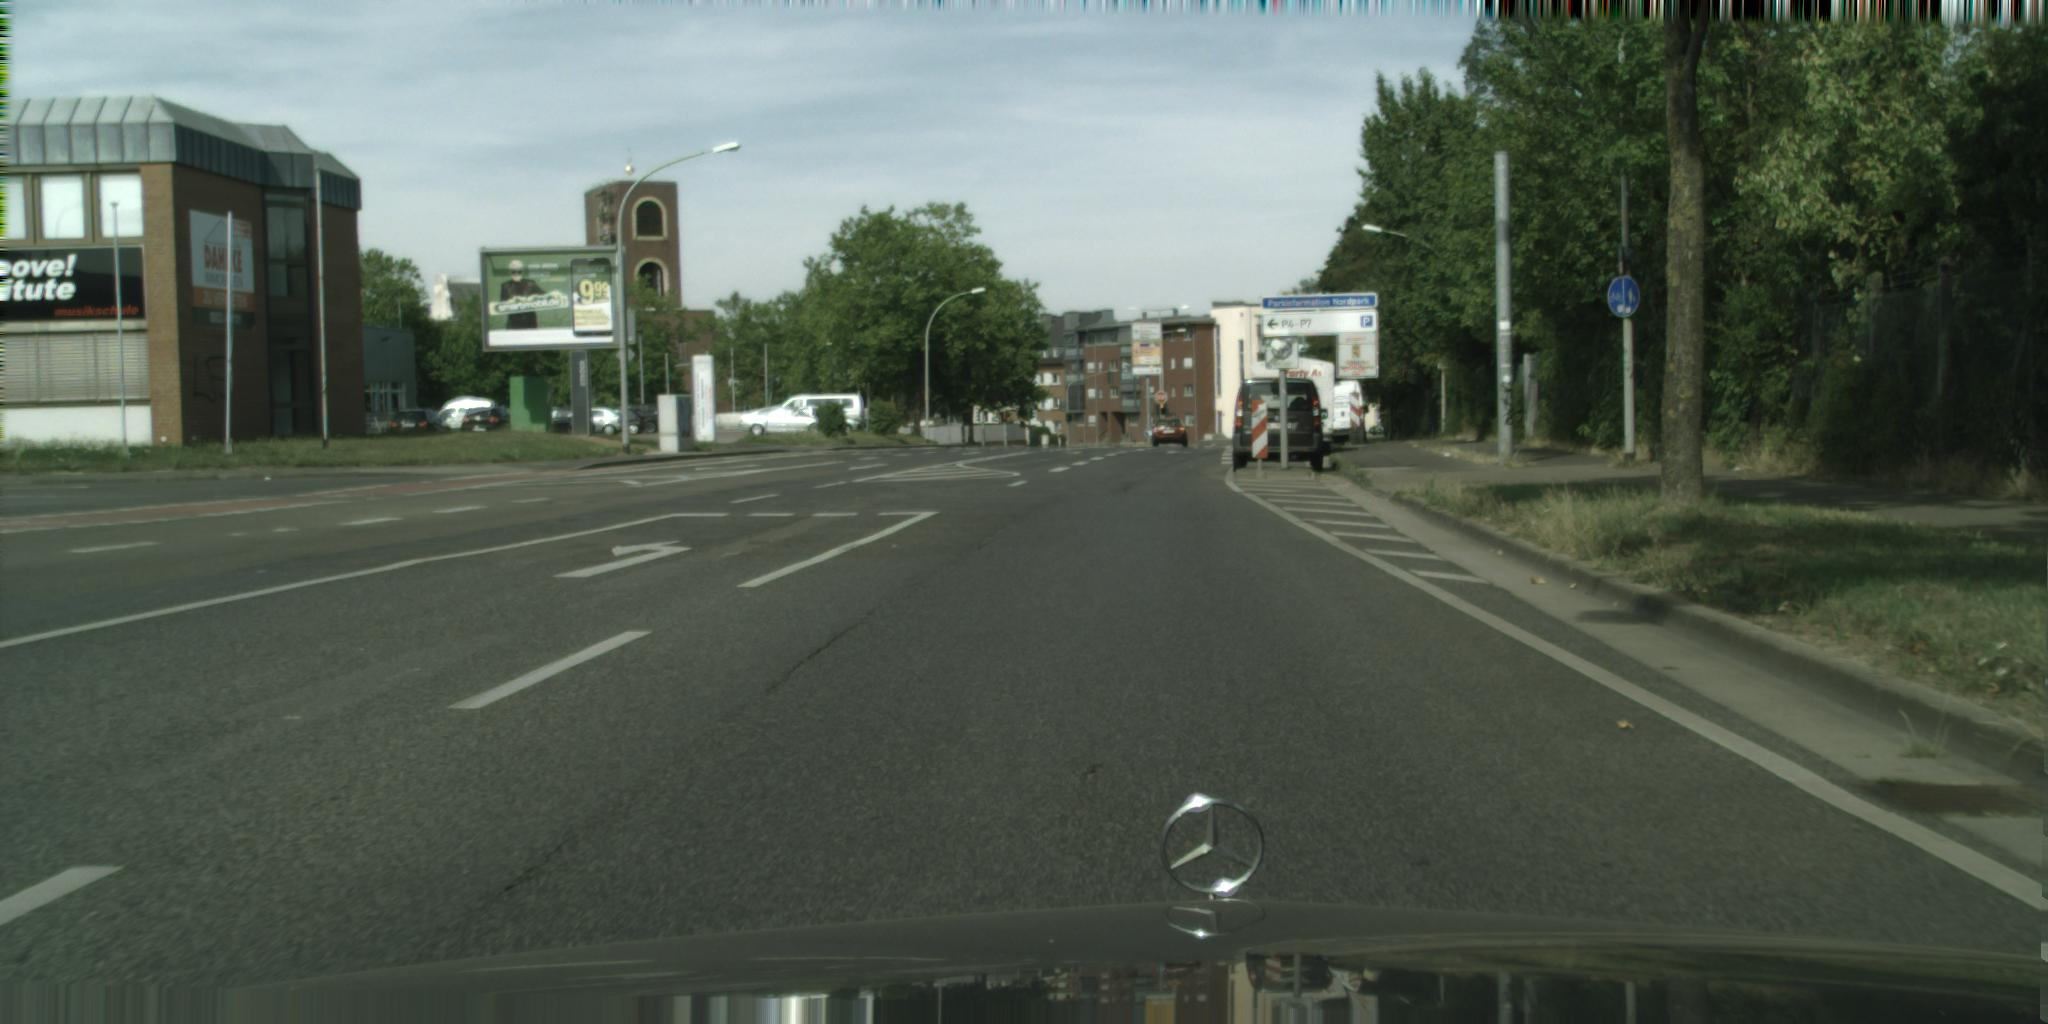car: (1233, 377, 1330, 475), (739, 404, 856, 441), (1318, 377, 1369, 447), (771, 394, 865, 426), (432, 400, 498, 438), (391, 408, 445, 440), (462, 404, 516, 435), (1152, 419, 1189, 449)
truck: (1251, 357, 1337, 458)
